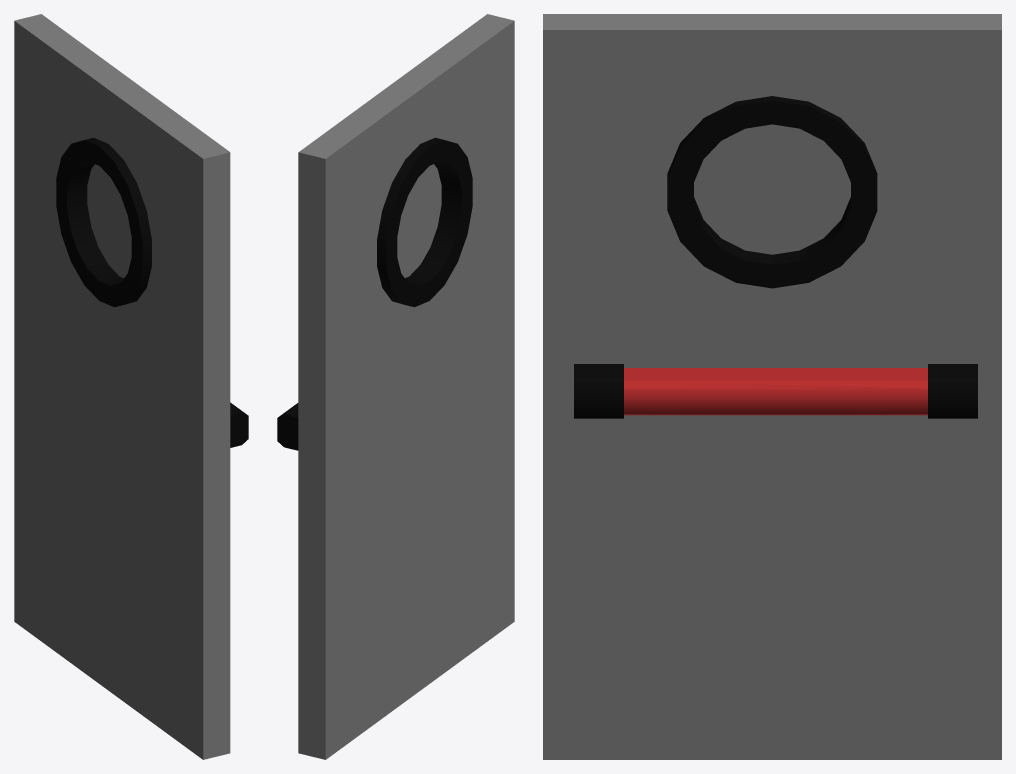
File: PUERTA PROYECCION.fbx
The picture shows the model from 3 angles, left to right: view 1: azimuth 30°, elevation 25°; view 2: azimuth 150°, elevation 25°; view 3: azimuth 270°, elevation 25°; orthographic projection. The views are drawn at different scales.
Visible parts, largest first — view 1: Box005; view 2: Box005; view 3: Box005.
Boxes of the visible parts, <box> form: Box005: <box>14,14,248,759</box>; Box005: <box>277,14,514,759</box>; Box005: <box>543,14,1001,759</box>.
Bounding box in the file's own units: 2.48 × 21.05 × 12.
